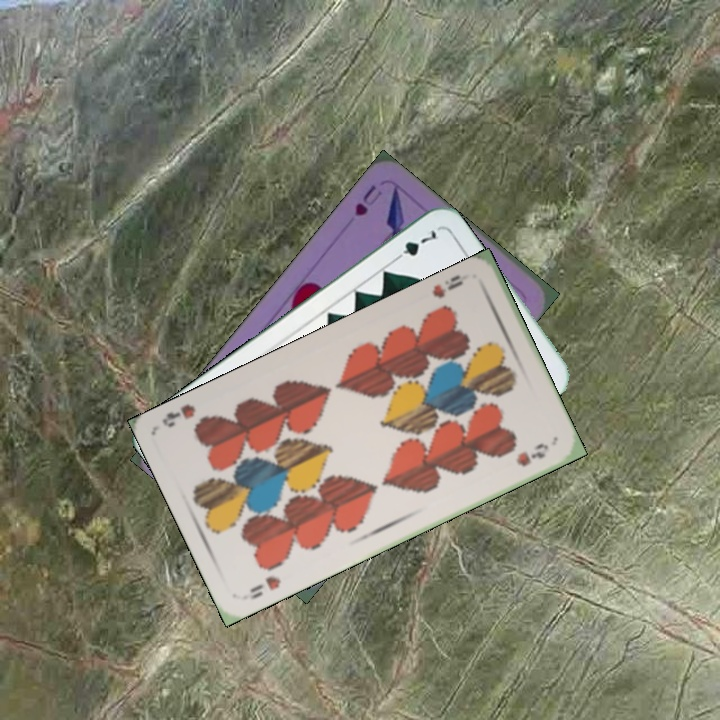G7: (388, 225, 441, 265)
H9: (428, 270, 465, 301), (245, 572, 283, 602)
HU: (350, 180, 385, 219)
